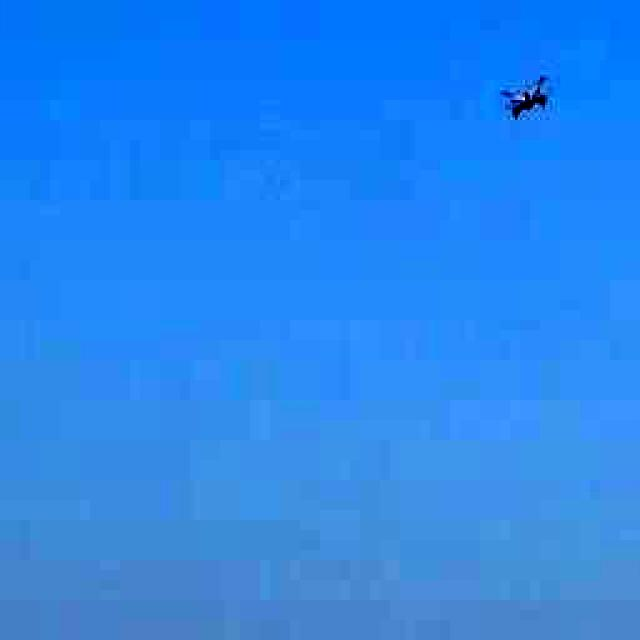bird: (469, 34, 576, 149)
